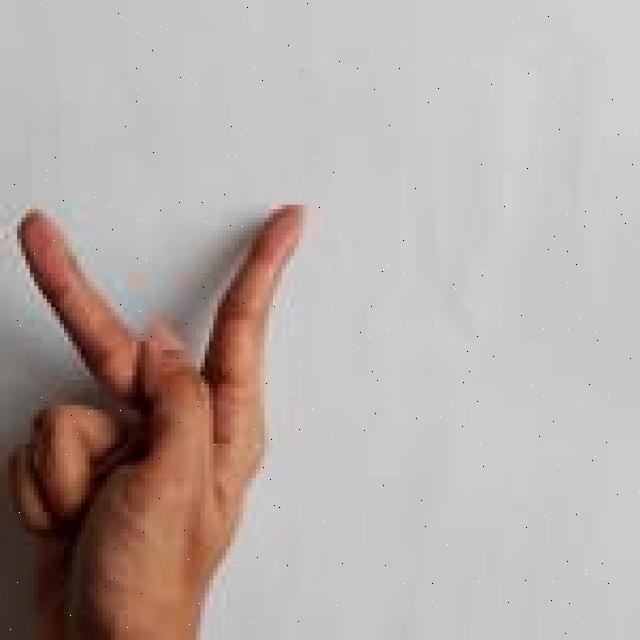K: (0, 195, 308, 640)
